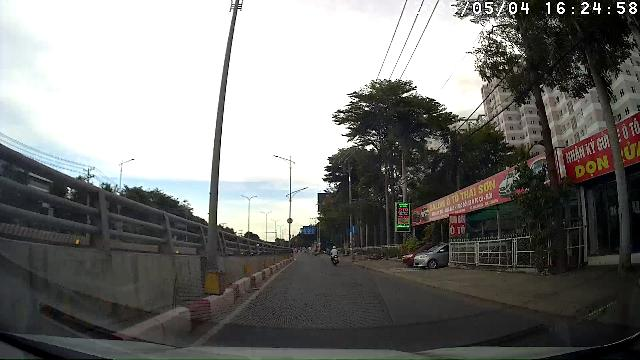301a-cac-xe-chi-duoc-di-thang: (350, 224, 358, 234)
